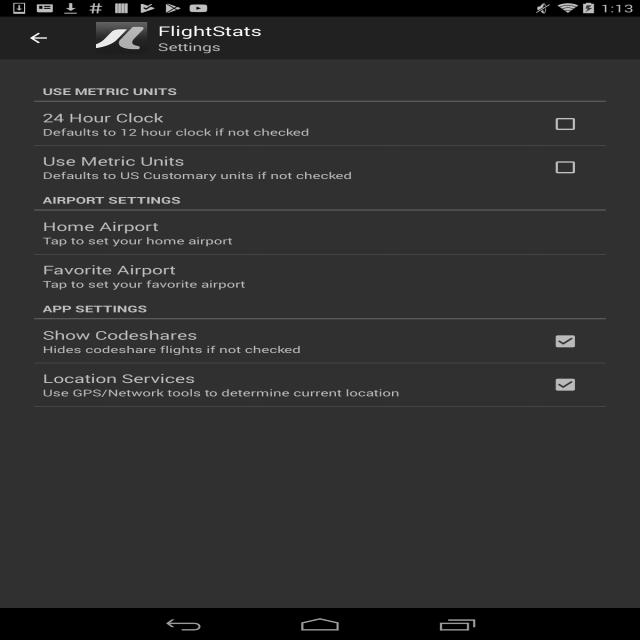CheckBox: (550, 331, 593, 356), (550, 111, 582, 133), (549, 156, 580, 177), (548, 377, 579, 391)
ImageButton: (25, 23, 52, 46)
ImageView: (89, 22, 152, 50)
TextView: (40, 152, 375, 186), (38, 371, 405, 400), (33, 327, 307, 356), (35, 112, 321, 137), (36, 264, 262, 293), (28, 223, 261, 250), (152, 27, 274, 53), (27, 297, 171, 318), (34, 84, 186, 100), (38, 190, 191, 203)
